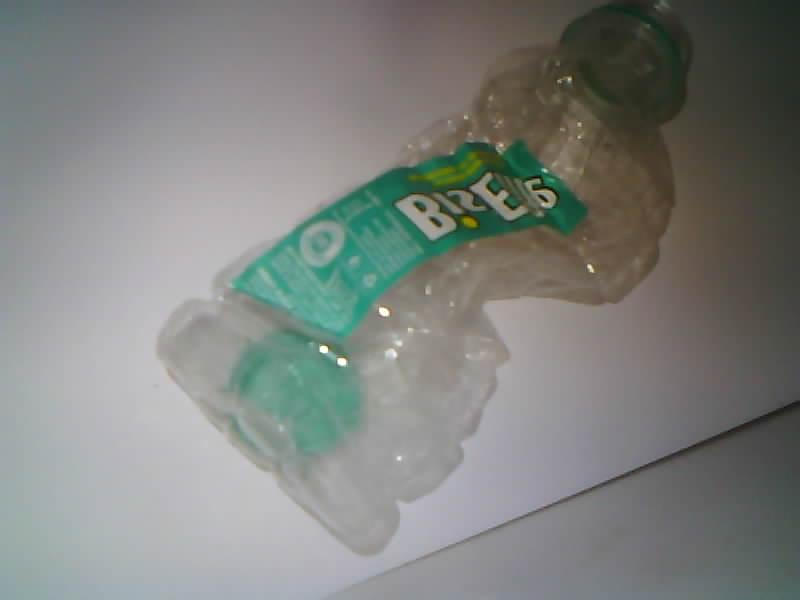non-biodegradable: (158, 5, 685, 554)
